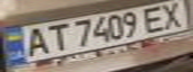0: (106, 11, 127, 40)
4: (90, 14, 112, 43)
7: (69, 17, 93, 47)
9: (121, 8, 145, 38)
A: (18, 25, 54, 56)
E: (136, 3, 172, 34)
T: (39, 21, 72, 52)
X: (154, 0, 193, 29)
